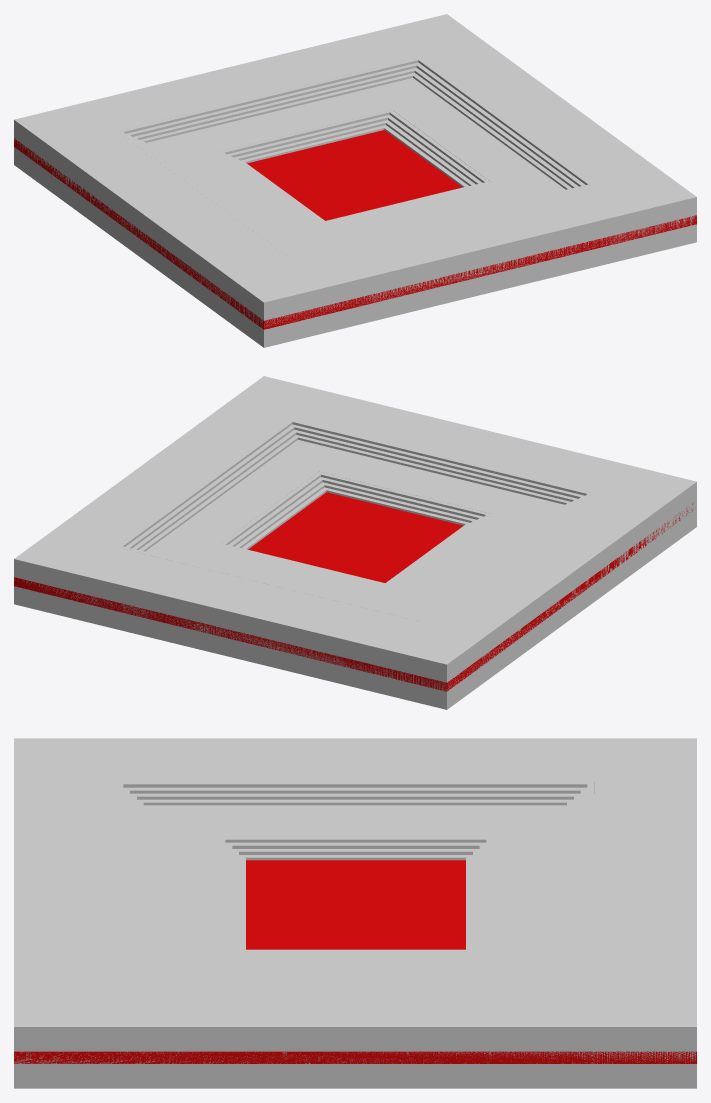
3 renders of one model, top to bottom at view 1: azimuth 30°, elevation 25°; view 2: azimuth 150°, elevation 25°; view 3: azimuth 270°, elevation 25°, orthographic. The views are drawn at different scales.
Visible parts, largest first — view 1: Cube.002, Cube.001, Cube, Cube.005, Cube.004, Cube.009, Cube.008, Cube.006, Cube.003, Cube.007, Cube.010; view 2: Cube.002, Cube.001, Cube, Cube.003, Cube.004, Cube.010, Cube.008, Cube.006, Cube.005, Cube.007; view 3: Cube.002, Cube.001, Cube, Cube.006, Cube.007, Cube.003, Cube.005, Cube.010, Cube.009, Cube.004, Cube.008.
Boxes of the visible parts, x1=… form: Cube.002: x1=14, y1=14, x2=696, y2=347; Cube.001: x1=14, y1=78, x2=696, y2=338; Cube: x1=14, y1=130, x2=696, y2=329; Cube.005: x1=117, y1=58, x2=418, y2=142; Cube.004: x1=411, y1=57, x2=594, y2=189; Cube.009: x1=219, y1=110, x2=393, y2=163; Cube.008: x1=382, y1=110, x2=490, y2=187; Cube.006: x1=119, y1=131, x2=298, y2=257; Cube.003: x1=290, y1=183, x2=592, y2=259; Cube.007: x1=220, y1=151, x2=324, y2=224; Cube.010: x1=319, y1=181, x2=491, y2=224; Cube.002: x1=14, y1=376, x2=696, y2=709; Cube.001: x1=14, y1=439, x2=696, y2=700; Cube: x1=14, y1=492, x2=692, y2=691; Cube.003: x1=289, y1=419, x2=589, y2=504; Cube.004: x1=116, y1=421, x2=299, y2=551; Cube.010: x1=317, y1=472, x2=491, y2=525; Cube.008: x1=219, y1=472, x2=328, y2=549; Cube.006: x1=412, y1=492, x2=593, y2=620; Cube.005: x1=118, y1=545, x2=421, y2=621; Cube.007: x1=385, y1=514, x2=489, y2=586; Cube.002: x1=14, y1=738, x2=696, y2=1088; Cube.001: x1=14, y1=794, x2=696, y2=1076; Cube: x1=14, y1=860, x2=696, y2=1063; Cube.006: x1=117, y1=781, x2=592, y2=805; Cube.007: x1=220, y1=837, x2=491, y2=860; Cube.003: x1=116, y1=781, x2=143, y2=983; Cube.005: x1=567, y1=781, x2=594, y2=983; Cube.010: x1=219, y1=837, x2=245, y2=952; Cube.009: x1=466, y1=837, x2=491, y2=949; Cube.004: x1=123, y1=981, x2=593, y2=983; Cube.008: x1=225, y1=949, x2=491, y2=952.
Size of the model in its own units: 1000 by 100 by 1000.
